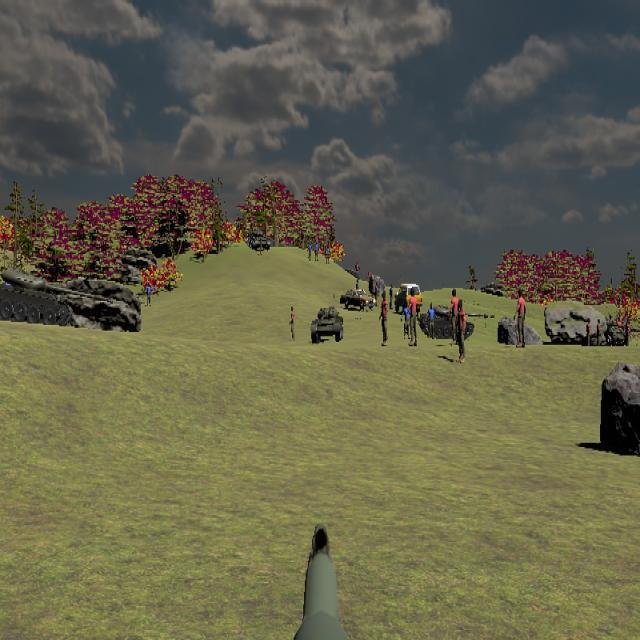Human: (514, 289, 527, 351), (454, 292, 465, 365), (449, 287, 460, 360), (408, 290, 420, 343), (426, 301, 438, 341)
Tank: (0, 267, 104, 329), (416, 302, 492, 340), (310, 305, 344, 345)
car: (394, 282, 424, 315), (340, 288, 376, 311)
